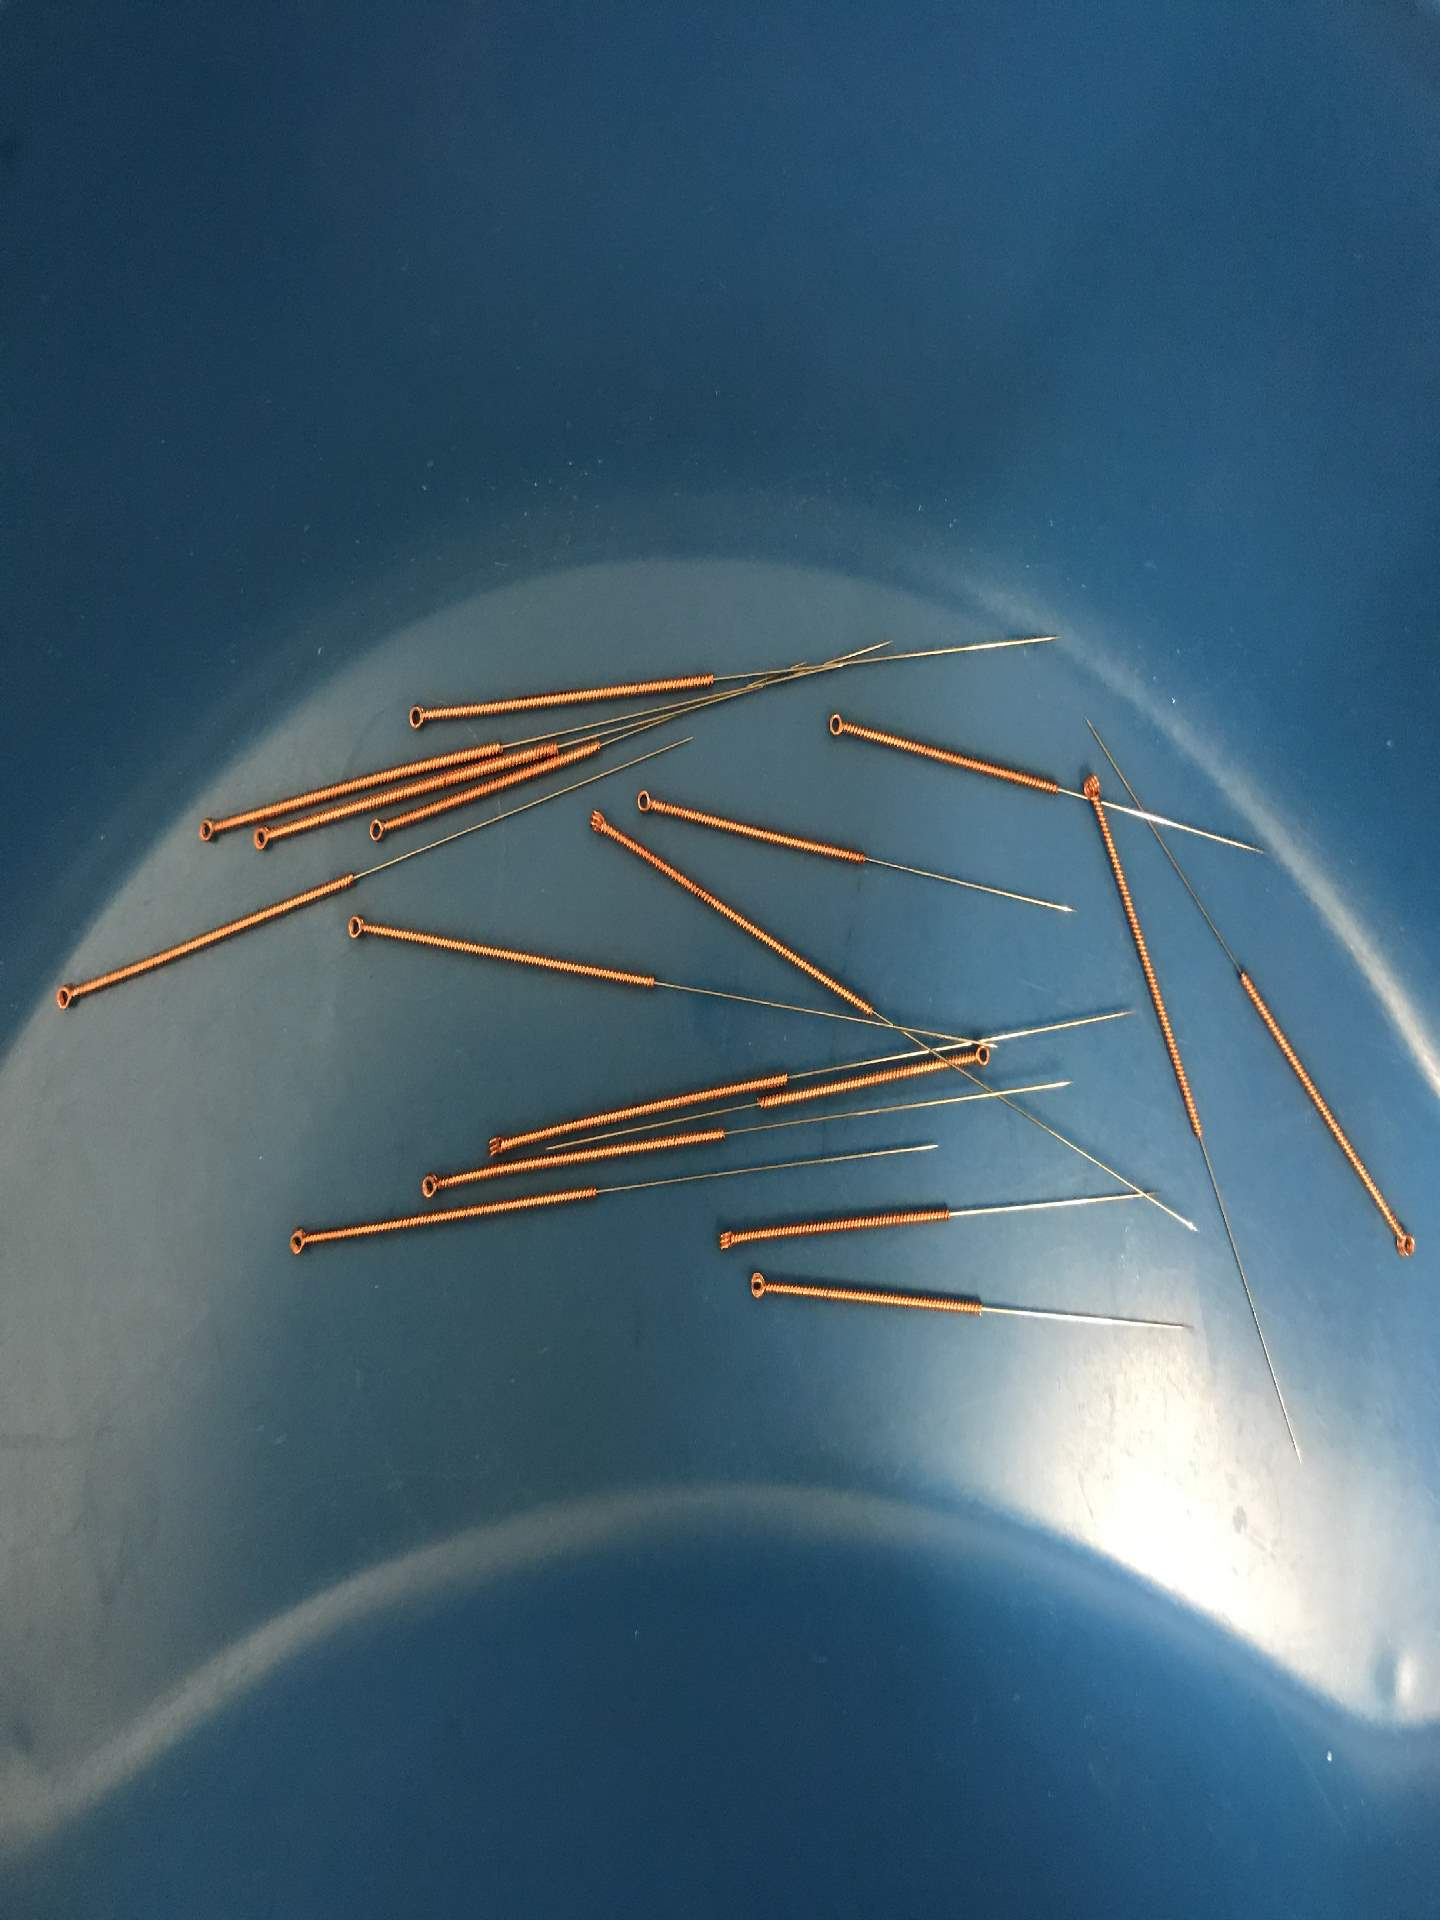needle: (1383, 1214, 1423, 1271), (42, 974, 88, 1017), (396, 694, 436, 739), (1072, 766, 1110, 813), (278, 1220, 318, 1262), (408, 1166, 451, 1205), (741, 1262, 777, 1308), (337, 907, 377, 948), (578, 801, 617, 842), (818, 705, 856, 745), (244, 819, 281, 860), (628, 782, 663, 824), (708, 1219, 744, 1256), (362, 813, 396, 850), (964, 1039, 998, 1075), (479, 1128, 514, 1163), (191, 810, 224, 847)
